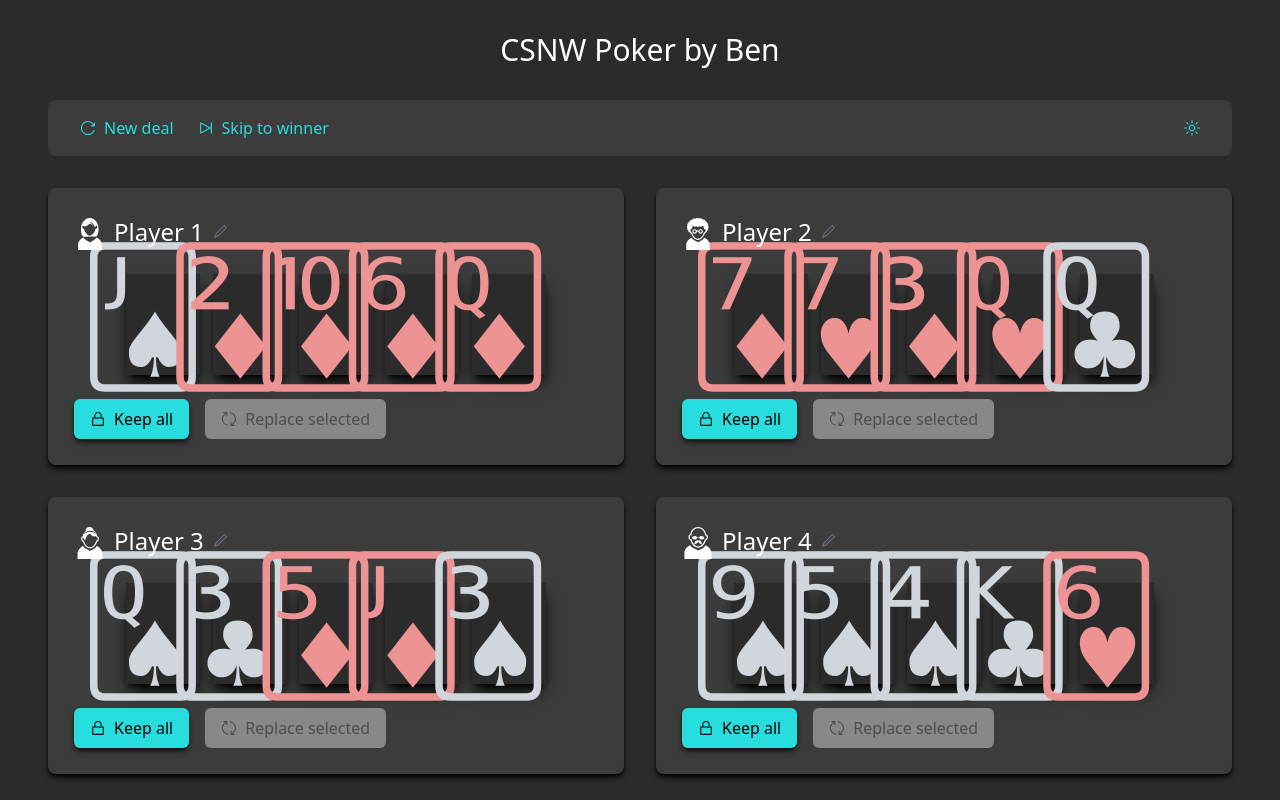
Poker Game - Core Game Flow › should start the game, deal cards, lock hands, and determine a winner
Click the button with aria-label "New deal button": [127, 128] box [80,116,174,140]
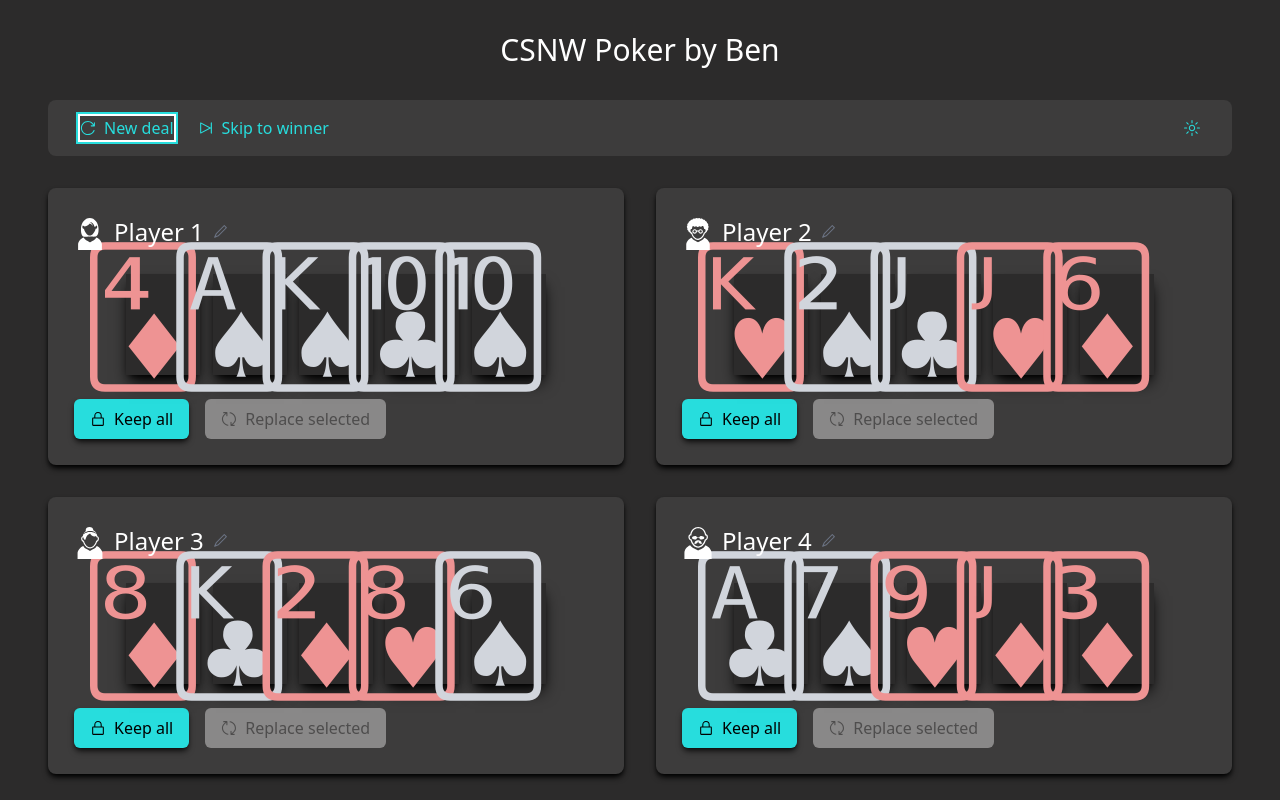
Expected: the number of elements with test id "player-hand" is 4, [48,188,624,465]; [656,188,1232,465]; [48,497,624,774]; [656,497,1232,774]
Click the button "Keep all" below "Player 1": [132, 419] box [74,399,189,439]
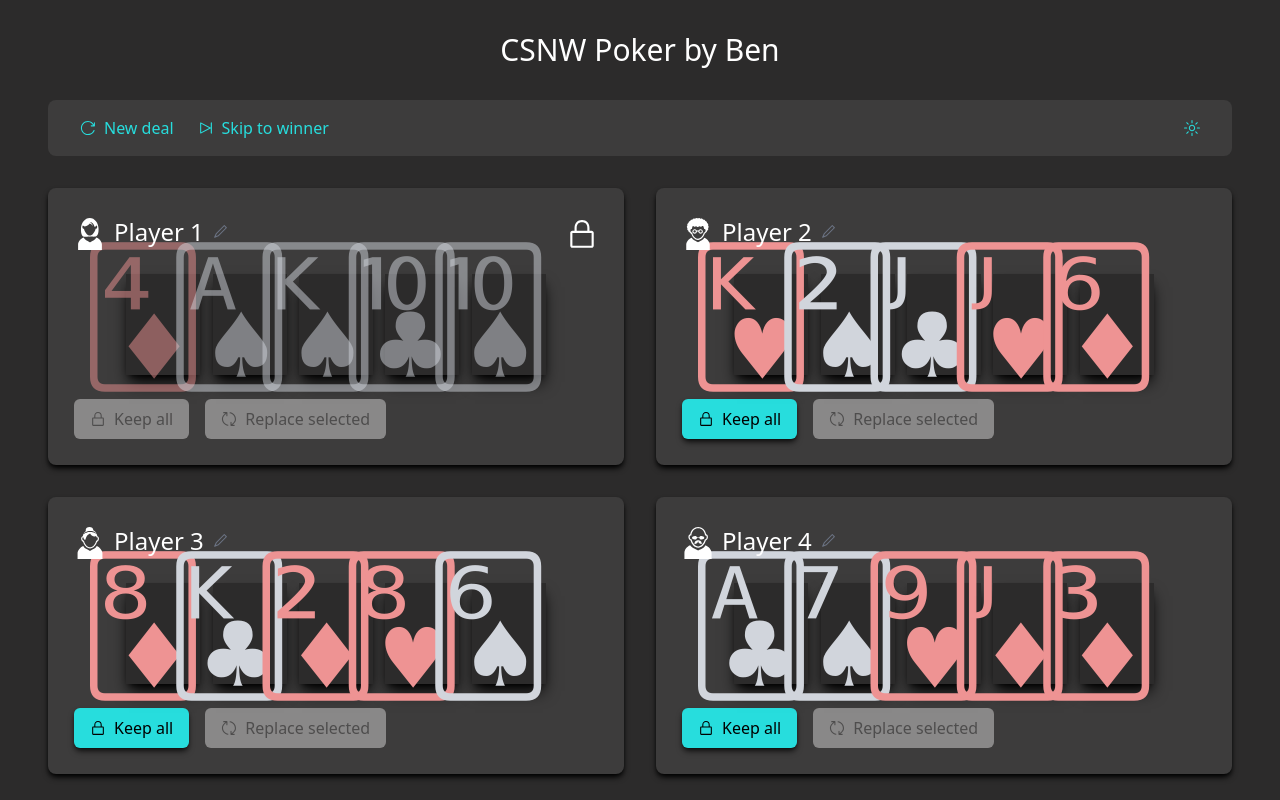
Click the button "Keep all" below "Player 2": [740, 419] box [682,399,797,439]
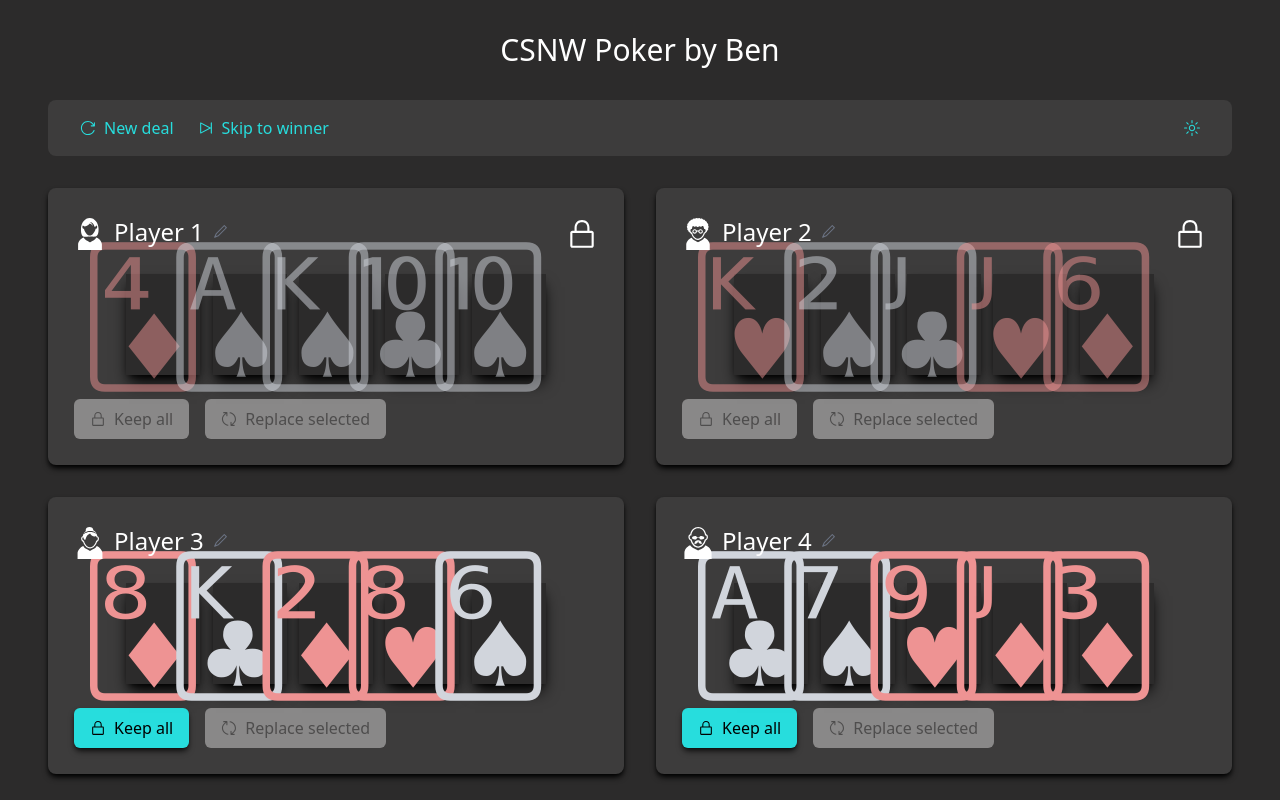
Click the button "Keep all" below "Player 3": [132, 728] box [74,708,189,748]
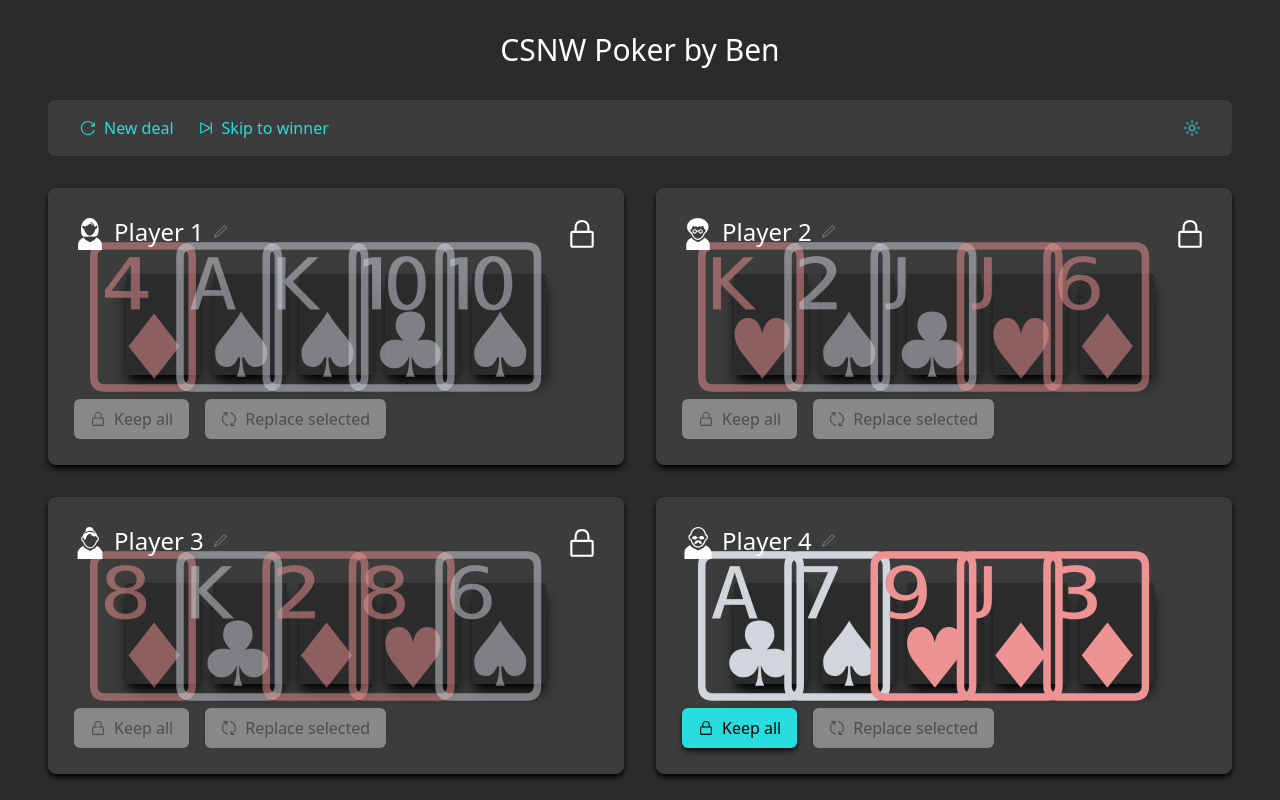
Click the button "Keep all" below "Player 4": [740, 728] box [682,708,797,748]
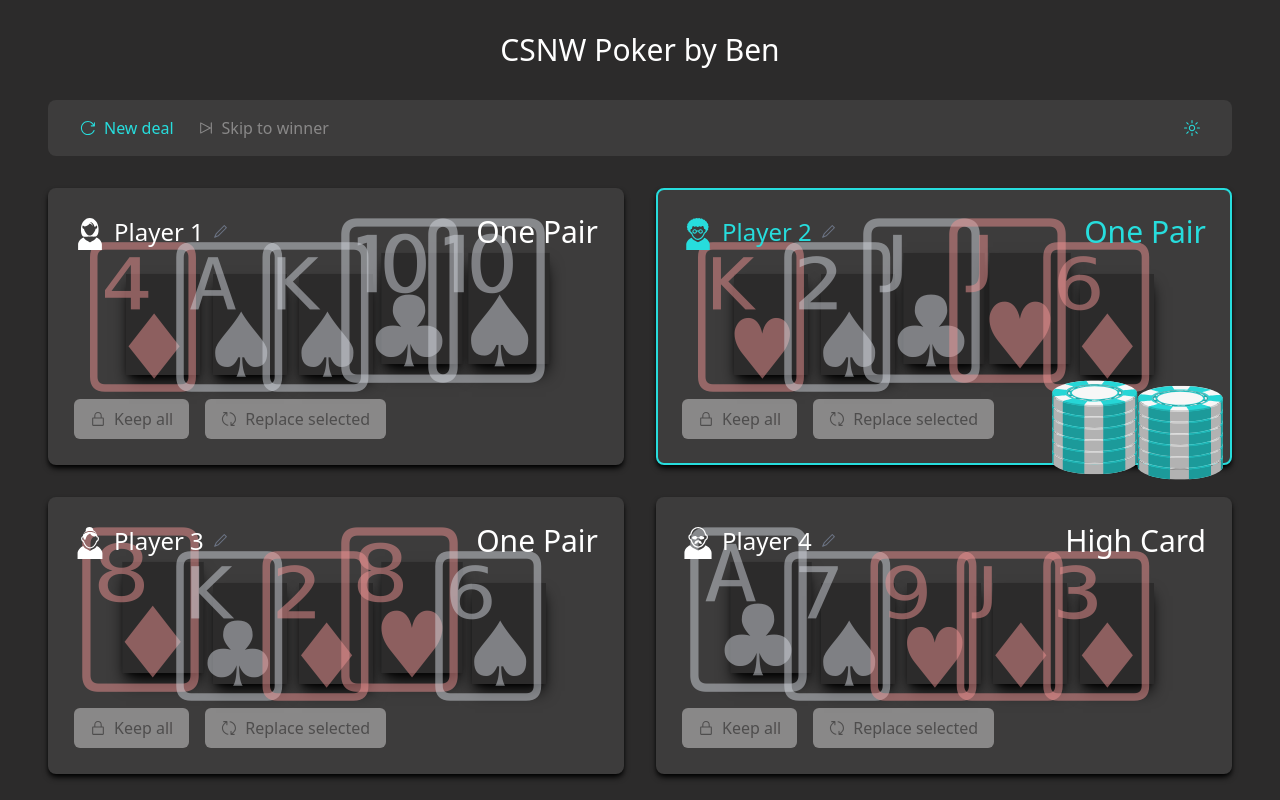
Expected: the element with test id "winner-indicator" is shown, [1012,273,1262,523]
